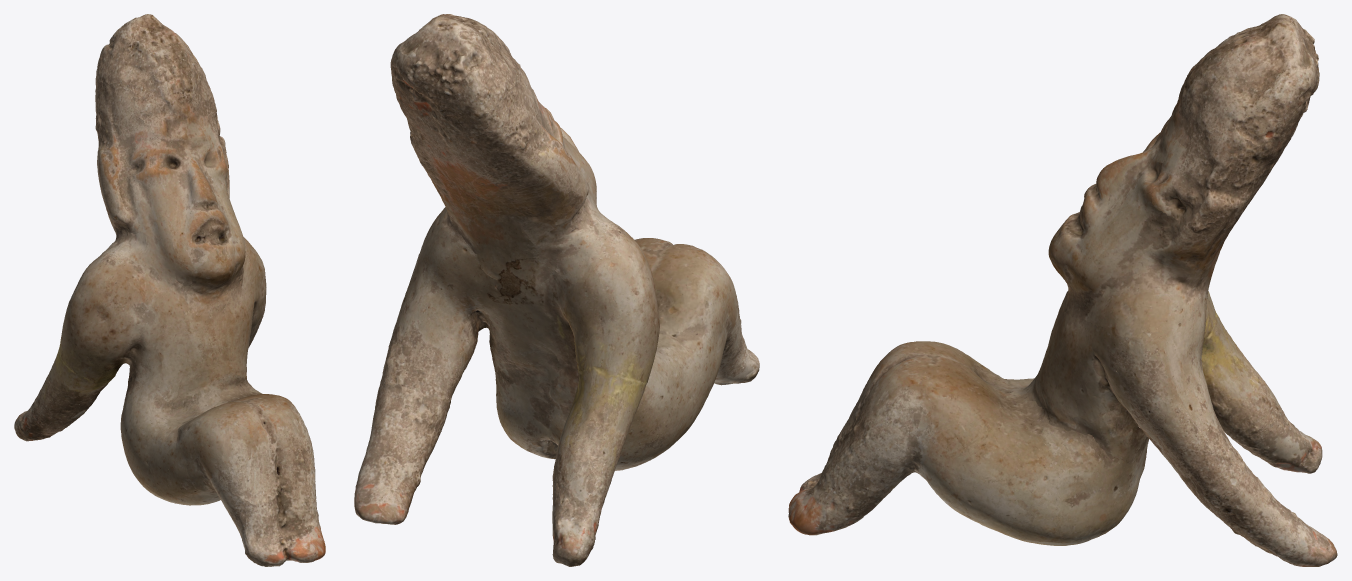
Rendered from olmek-transformed.glb.
3 views of the same model, side by side, from view 1: azimuth 30°, elevation 25°; view 2: azimuth 150°, elevation 25°; view 3: azimuth 270°, elevation 25° (orthographic). The views are drawn at different scales.
Visible parts, largest first — view 1: 1974.18.0001 (olmek-figur); view 2: 1974.18.0001 (olmek-figur); view 3: 1974.18.0001 (olmek-figur).
Boxes of the visible parts, x1,y1,x2,y2 form: 1974.18.0001 (olmek-figur): (14,14,325,566); 1974.18.0001 (olmek-figur): (354,14,759,566); 1974.18.0001 (olmek-figur): (788,14,1337,566).
Size of the model in its own units: 1.45 by 2.86 by 2.72.
Materials: 1 (1 with a texture image).
